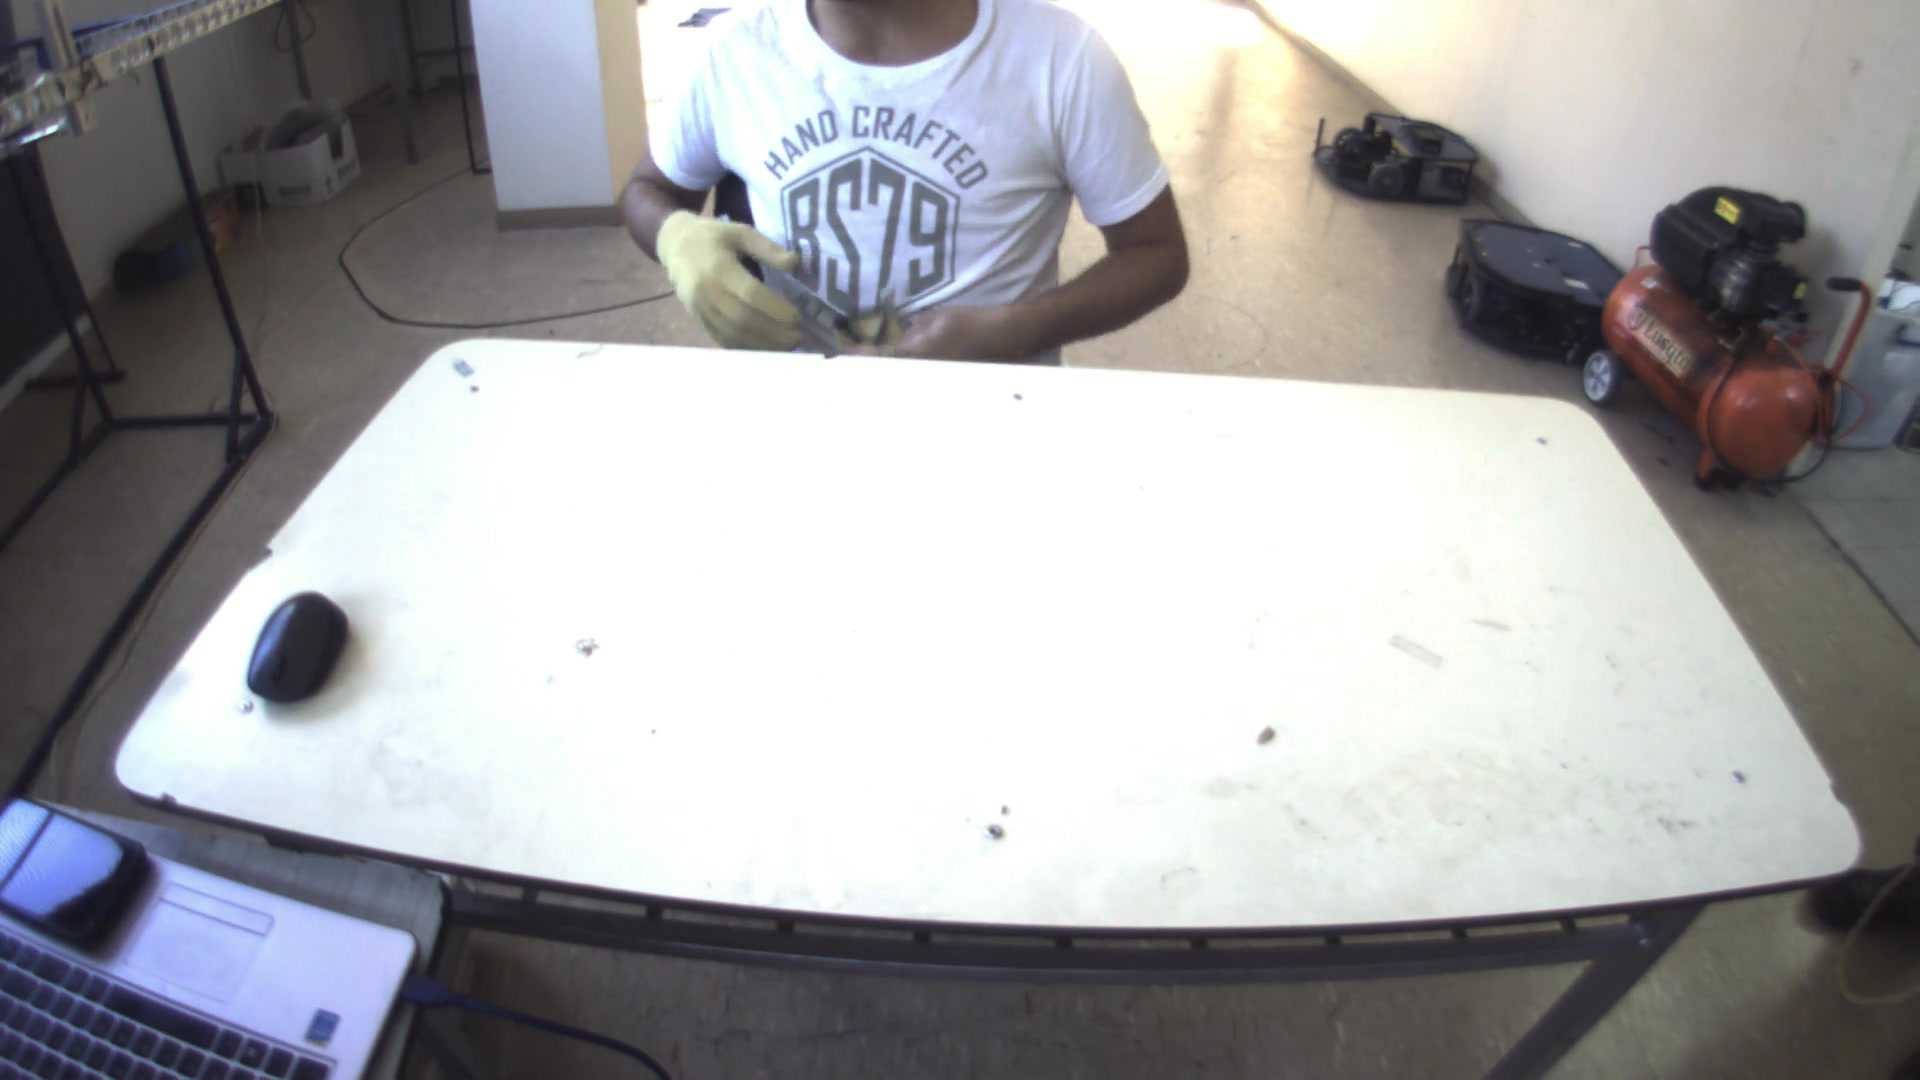hand: (640, 194, 812, 349)
